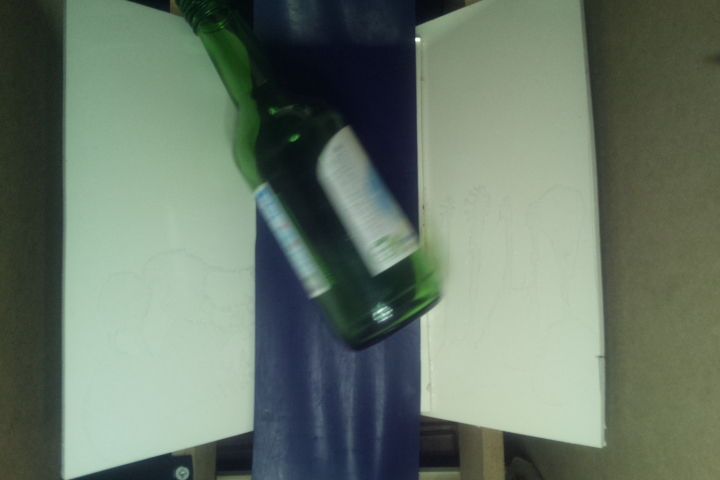soju: (177, 1, 447, 349)
